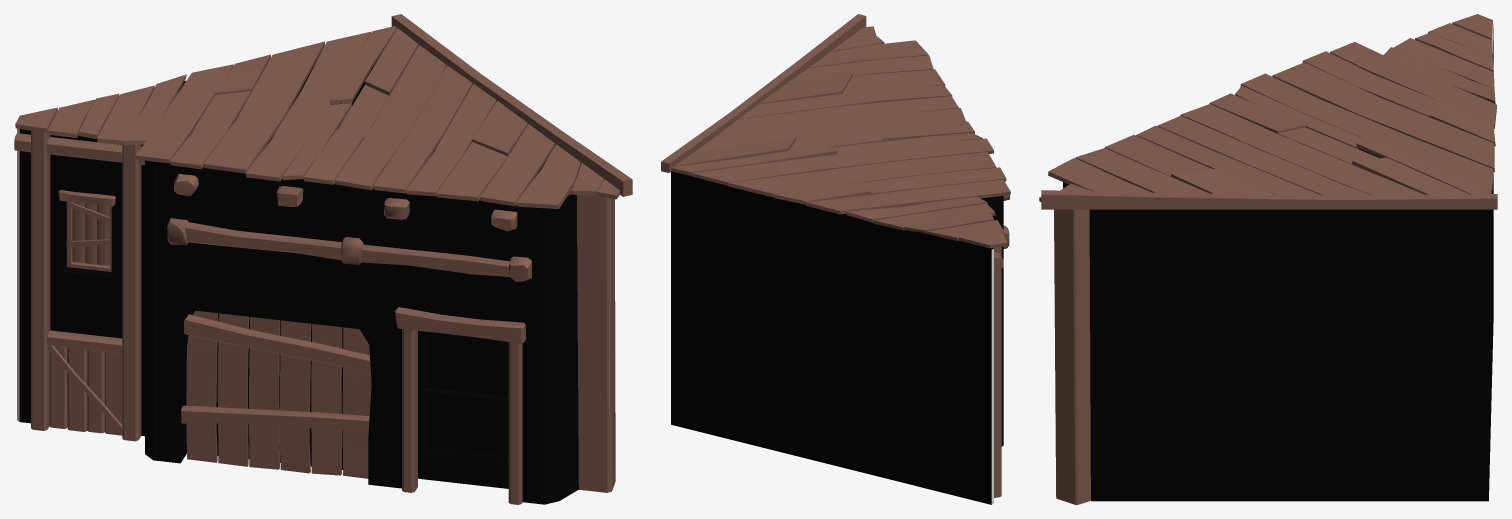
The model's file is civilian_house_46.FBX.
3 renders of one model, left to right at view 1: azimuth 30°, elevation 25°; view 2: azimuth 150°, elevation 25°; view 3: azimuth 270°, elevation 25°, orthographic. The views are drawn at different scales.
Parts seen in each view (by area): view 1: civilian_house_46_LOD0; view 2: civilian_house_46_LOD0; view 3: civilian_house_46_LOD0.
Part boxes in pixels (bbox=[...]): civilian_house_46_LOD0: bbox=[14, 14, 632, 504]; civilian_house_46_LOD0: bbox=[661, 14, 1010, 504]; civilian_house_46_LOD0: bbox=[1039, 14, 1497, 504].
Size of what is drawn, in the model's own units: 520 by 396 by 528.
